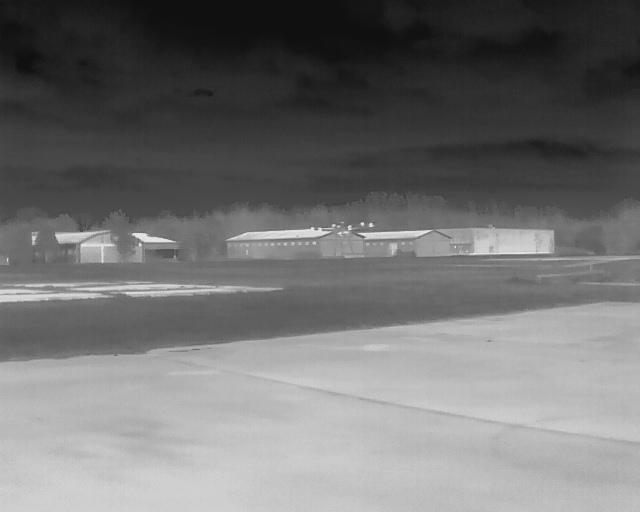drone: (312, 220, 375, 264)
